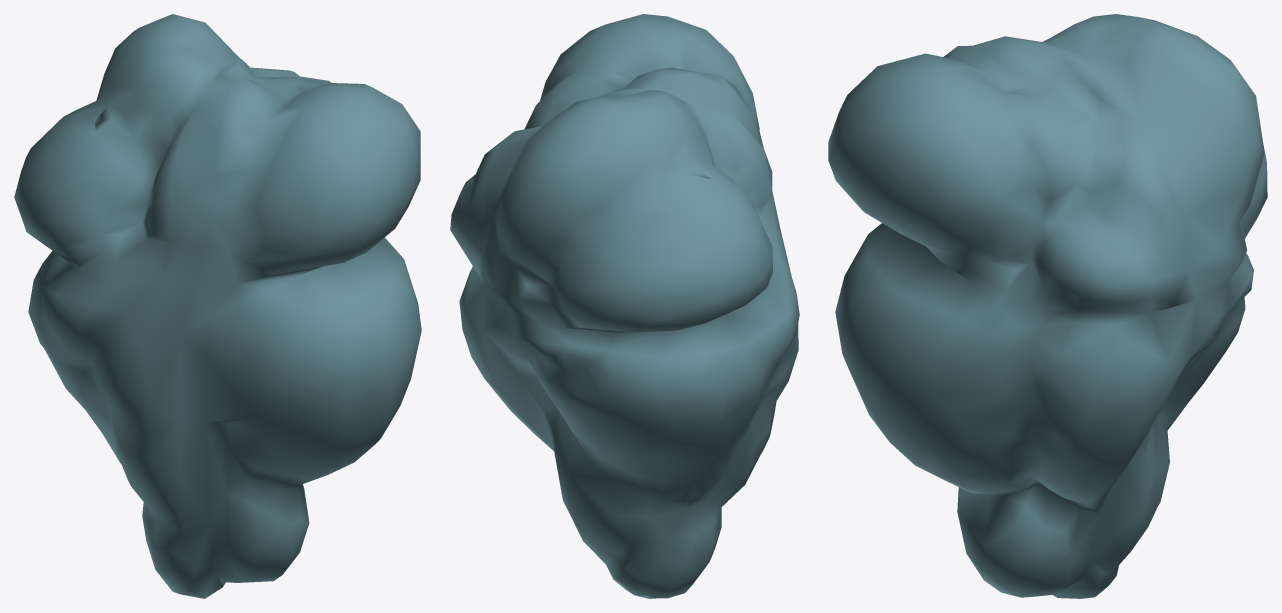
File: env_primalcave_rocks_smallblob02.fbx
The picture shows the model from 3 angles, left to right: view 1: azimuth 30°, elevation 25°; view 2: azimuth 150°, elevation 25°; view 3: azimuth 270°, elevation 25°; orthographic projection. The views are drawn at different scales.
Visible parts, largest first — view 1: env_excavation_underground_sticky_blockout_smallblob02; view 2: env_excavation_underground_sticky_blockout_smallblob02; view 3: env_excavation_underground_sticky_blockout_smallblob02.
Part boxes in pixels (x1=…): env_excavation_underground_sticky_blockout_smallblob02: x1=14, y1=14, x2=421, y2=598; env_excavation_underground_sticky_blockout_smallblob02: x1=450, y1=14, x2=799, y2=598; env_excavation_underground_sticky_blockout_smallblob02: x1=828, y1=14, x2=1267, y2=598.
Size of the model in its own units: 10.48 by 16.32 by 11.25.
